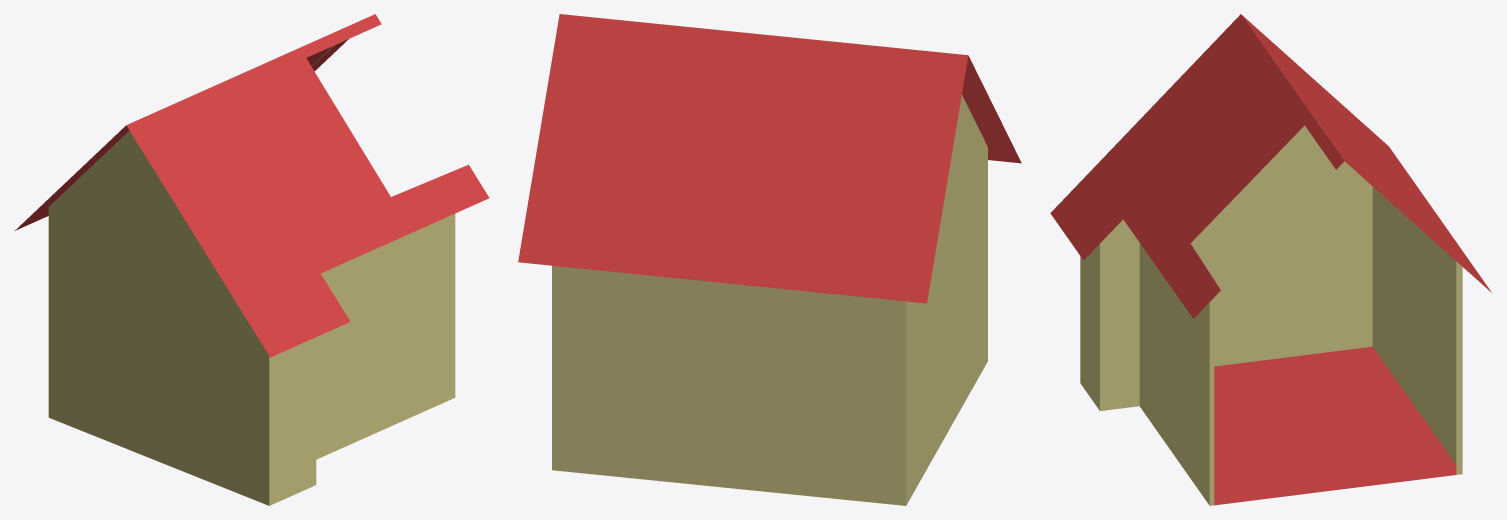
3 views of the same model, side by side, from view 1: azimuth 30°, elevation 25°; view 2: azimuth 150°, elevation 25°; view 3: azimuth 270°, elevation 25° (orthographic). The views are drawn at different scales.
Bounding box in the file's own units: 18.06 × 18.27 × 15.42.
